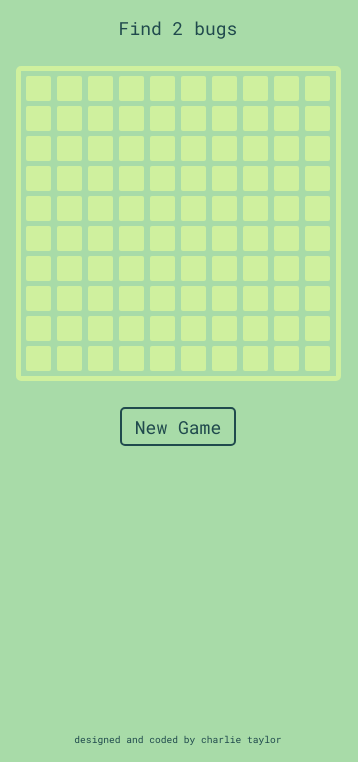
Test: Game › right click tile updates bug count
Right-click the 1st element with test id "tile".
right_click(38, 89)  # box x1=26 y1=76 x2=50 y2=101
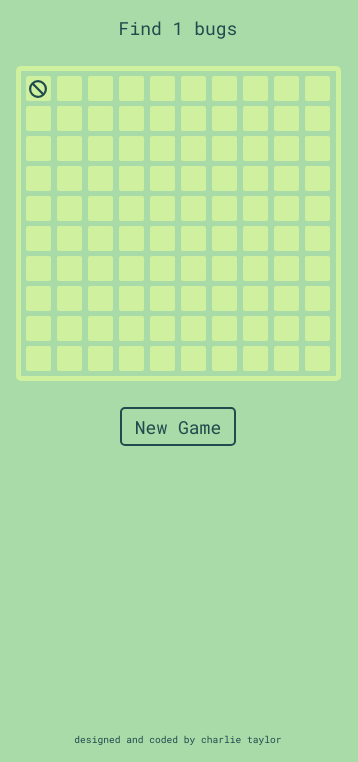
expect the text "Find 1 bugs" is shown: met, box x1=119 y1=16 x2=237 y2=40
